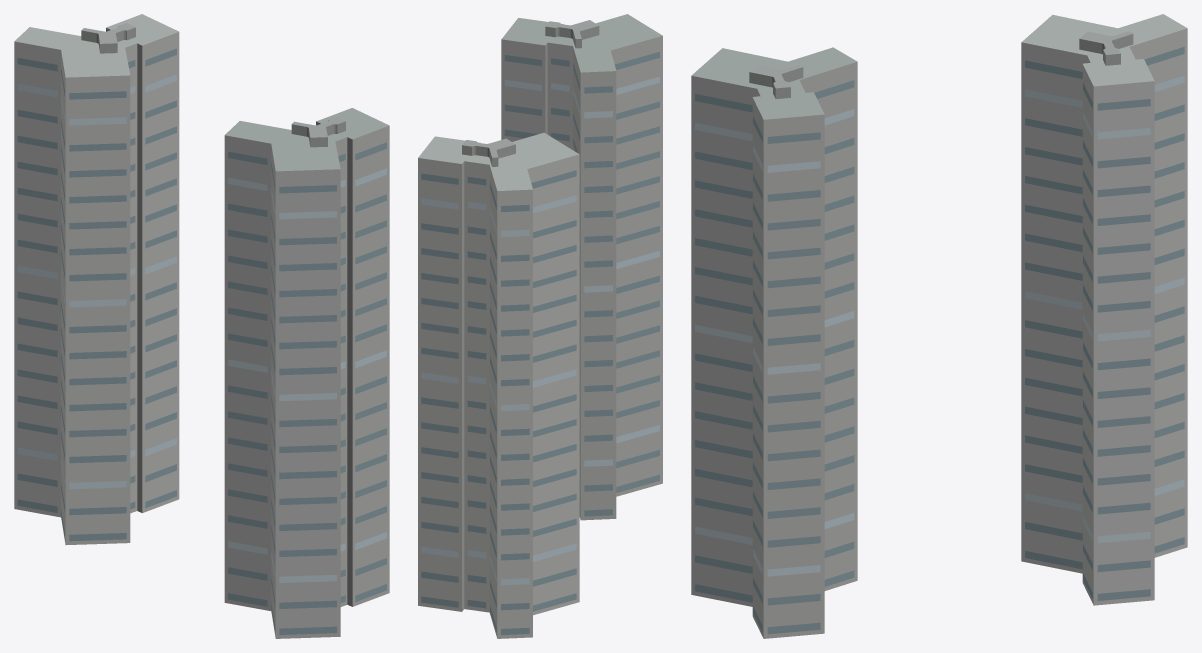
Rendered from apt-a10027301.glb.
3 views of the same model, side by side, from view 1: azimuth 30°, elevation 25°; view 2: azimuth 150°, elevation 25°; view 3: azimuth 270°, elevation 25° (orthographic). The views are drawn at different scales.
Parts seen in each view (by area): view 1: apt-a10027301; view 2: apt-a10027301; view 3: apt-a10027301.
Boxes of the visible parts, bbox=[...] form: apt-a10027301: bbox=[14, 14, 389, 638]; apt-a10027301: bbox=[418, 14, 662, 638]; apt-a10027301: bbox=[691, 14, 1187, 638].
Size of the model in its own units: 50.55 by 118 by 100.
